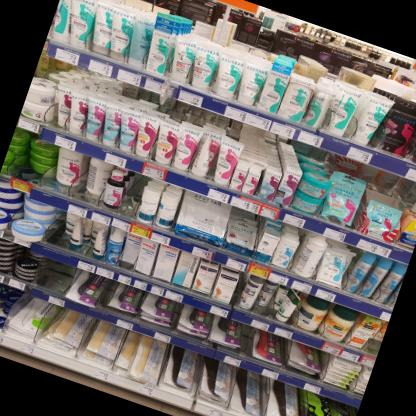empty_space: (350, 166, 413, 243), (31, 257, 78, 296)
